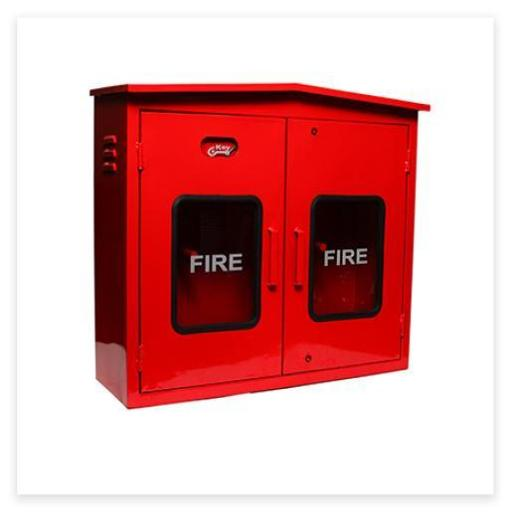fire_hose: (80, 79, 432, 412)
